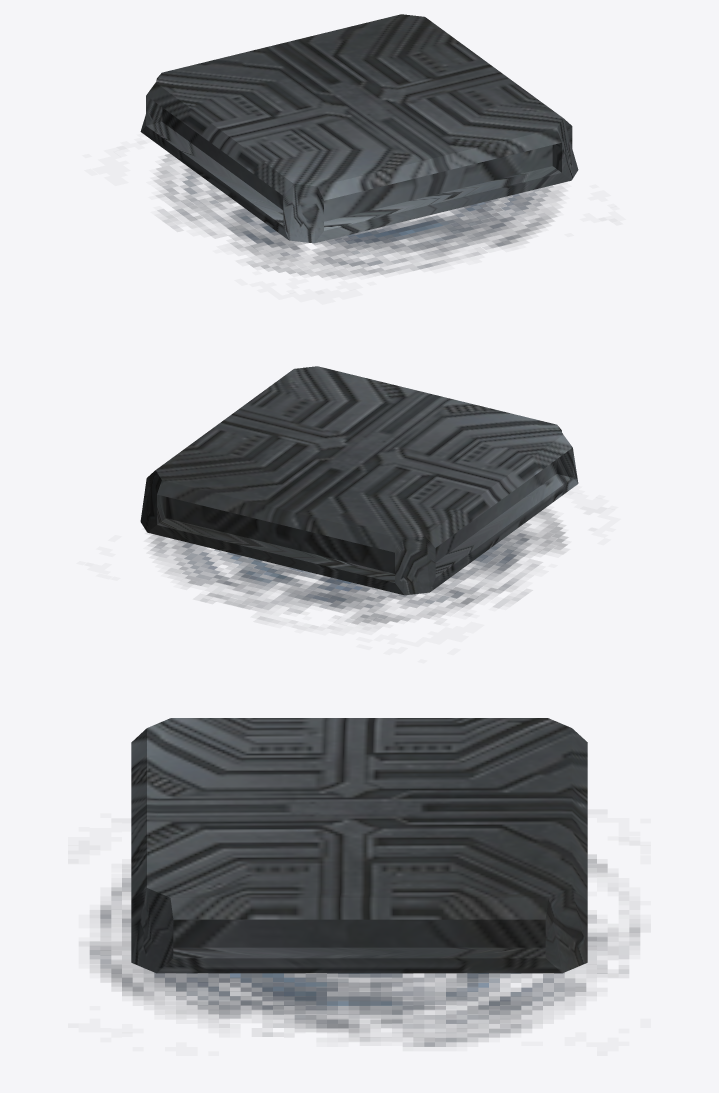
The model's file is platformdefault4.glb.
3 views of the same model, one above another, from view 1: azimuth 30°, elevation 25°; view 2: azimuth 150°, elevation 25°; view 3: azimuth 270°, elevation 25° (orthographic). The views are drawn at different scales.
Visible parts, largest first — view 1: box; view 2: box; view 3: box.
Part boxes in pixels (box(x1,y1,x2,y2)): box: box(140, 14, 578, 277); box: box(140, 366, 578, 624); box: box(90, 718, 639, 1046).
Bounding box in the file's own units: 6.81 × 1.36 × 6.81.
Materials: 2 (2 with a texture image).
